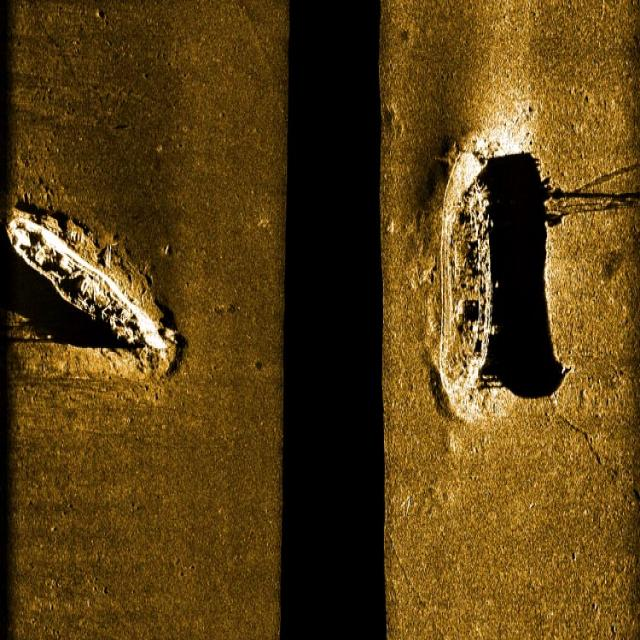ship: (5, 201, 176, 370), (436, 146, 499, 399)
